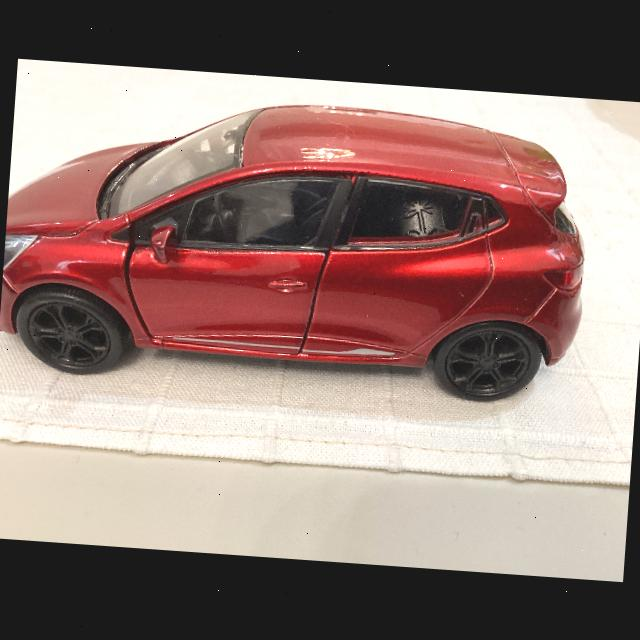Dogru_Jant: (444, 328, 531, 397), (26, 299, 111, 366)
